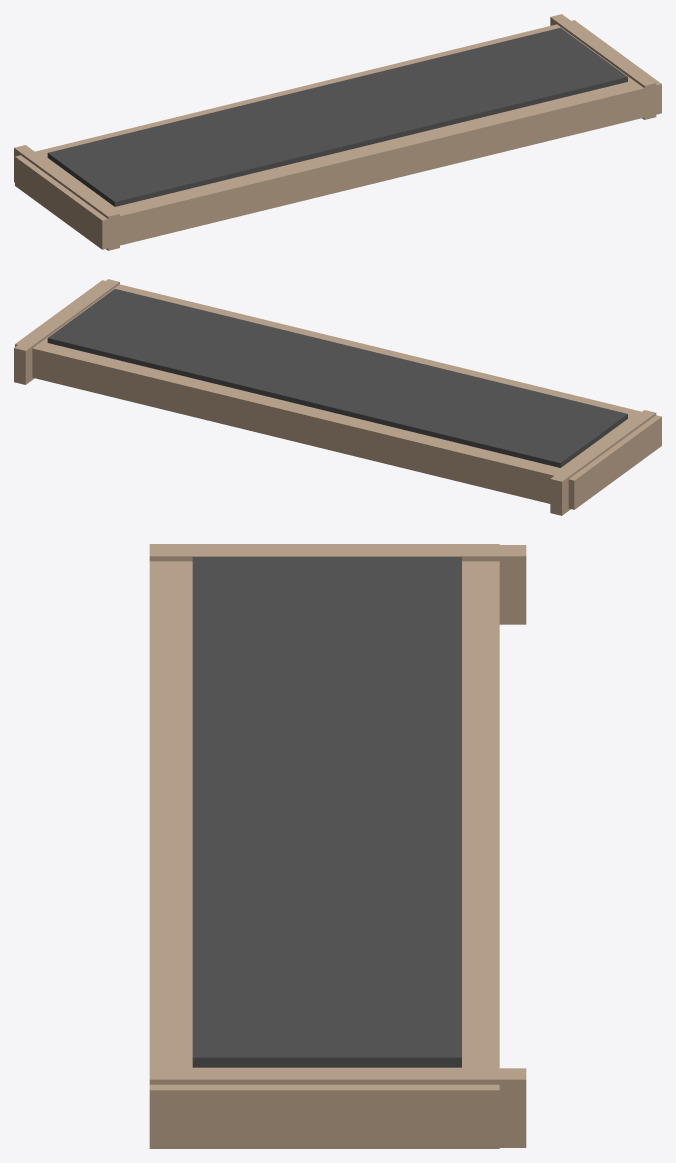
The model's file is signboard.glb.
3 views of the same model, one above another, from view 1: azimuth 30°, elevation 25°; view 2: azimuth 150°, elevation 25°; view 3: azimuth 270°, elevation 25° (orthographic). The views are drawn at different scales.
Parts seen in each view (by area): view 1: face, board, rail_l, rail_r; view 2: face, board, rail_l, rail_r; view 3: face, board, rail_r, rail_l.
Boxes of the visible parts, x1,y1,x2,y2 form: face: [47, 28, 627, 206]; board: [15, 20, 661, 249]; rail_l: [14, 145, 119, 250]; rail_r: [550, 14, 656, 119]; face: [47, 289, 627, 467]; board: [15, 280, 661, 509]; rail_l: [550, 410, 656, 515]; rail_r: [14, 279, 119, 384]; face: [192, 557, 461, 1067]; board: [149, 544, 499, 1148]; rail_r: [149, 1068, 526, 1147]; rail_l: [149, 545, 526, 624].
Bounding box in the file's own units: 2.4 × 0.15 × 0.7.
